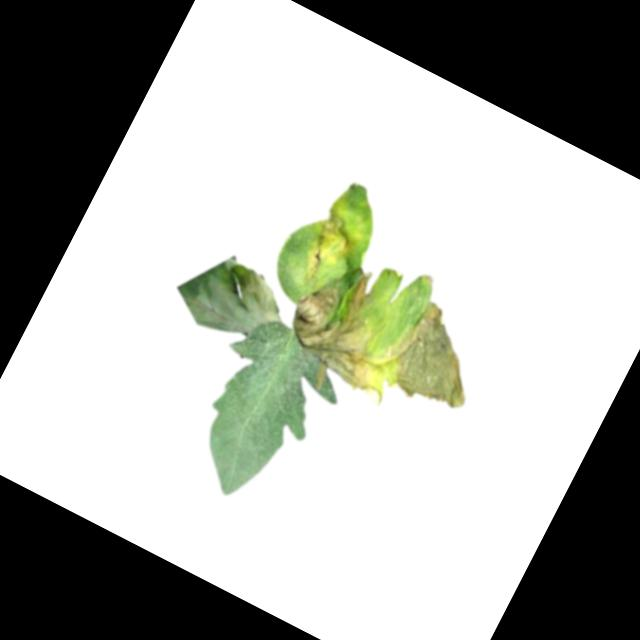Late_blight: (277, 249, 418, 393), (166, 238, 299, 358), (378, 295, 501, 422), (295, 206, 363, 286)
healthy: (167, 308, 359, 524)
